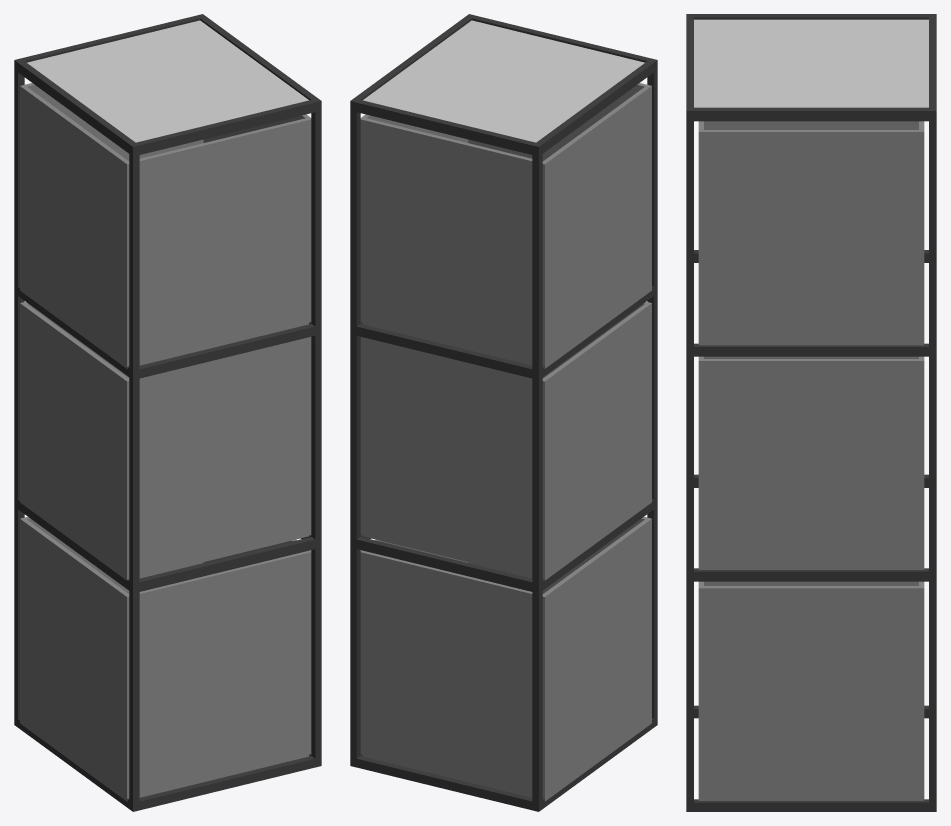
The model's file is furniture2.gltf.
3 views of the same model, side by side, from view 1: azimuth 30°, elevation 25°; view 2: azimuth 150°, elevation 25°; view 3: azimuth 270°, elevation 25° (orthographic). The views are drawn at different scales.
Visible parts, largest first — view 1: Cube; view 2: Cube; view 3: Cube.
Part boxes in pixels (bbox=[...]): Cube: bbox=[14, 14, 321, 811]; Cube: bbox=[350, 14, 657, 811]; Cube: bbox=[686, 14, 936, 811].
Bounding box in the file's own units: 0.2904 × 0.9775 × 0.3167.
1 material, 1 textured.
